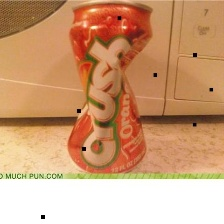can: (63, 0, 155, 175)
